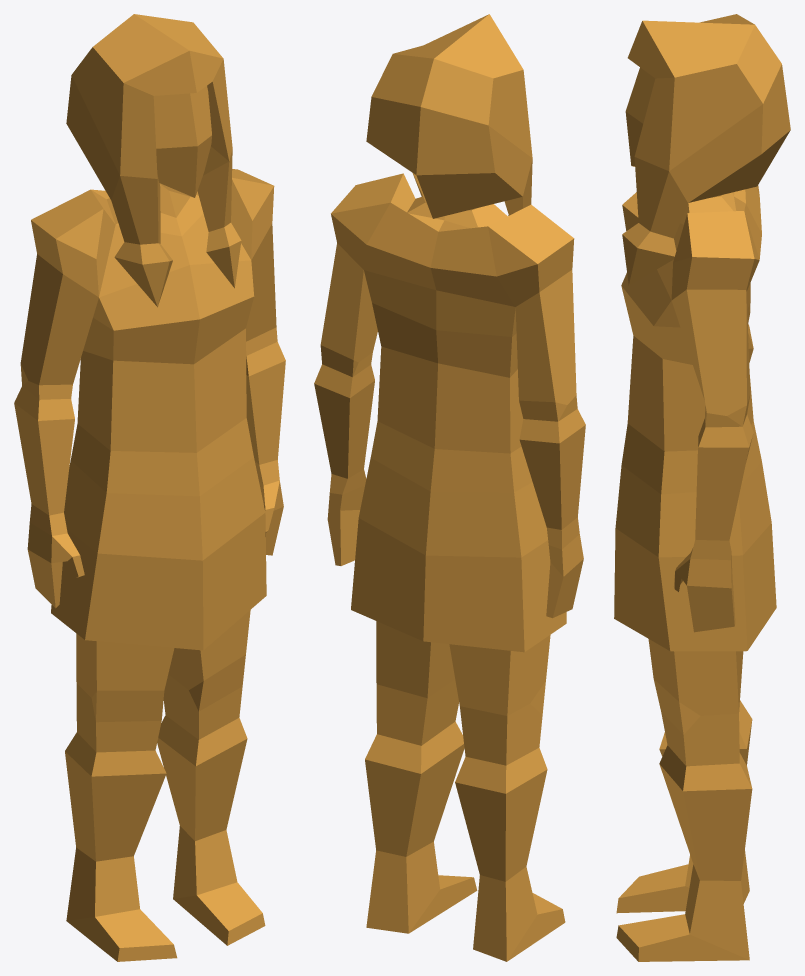
Rendered from woman-viking.fbx.
3 renders of one model, left to right at view 1: azimuth 30°, elevation 25°; view 2: azimuth 150°, elevation 25°; view 3: azimuth 270°, elevation 25°, orthographic.
Parts seen in each view (by area): view 1: woman-viking; view 2: woman-viking; view 3: woman-viking.
Part boxes in pixels (left/top/right/bottom): woman-viking: left=14, top=14, right=285, bottom=961; woman-viking: left=314, top=14, right=585, bottom=961; woman-viking: left=614, top=14, right=790, bottom=961.
Size of the model in its own units: 0.5366 by 1.85 by 0.3266.
